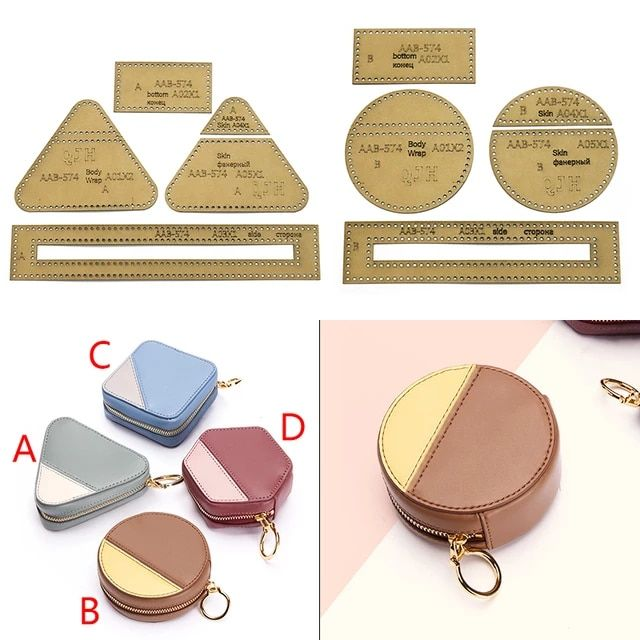cuero: (34, 339, 562, 624)
